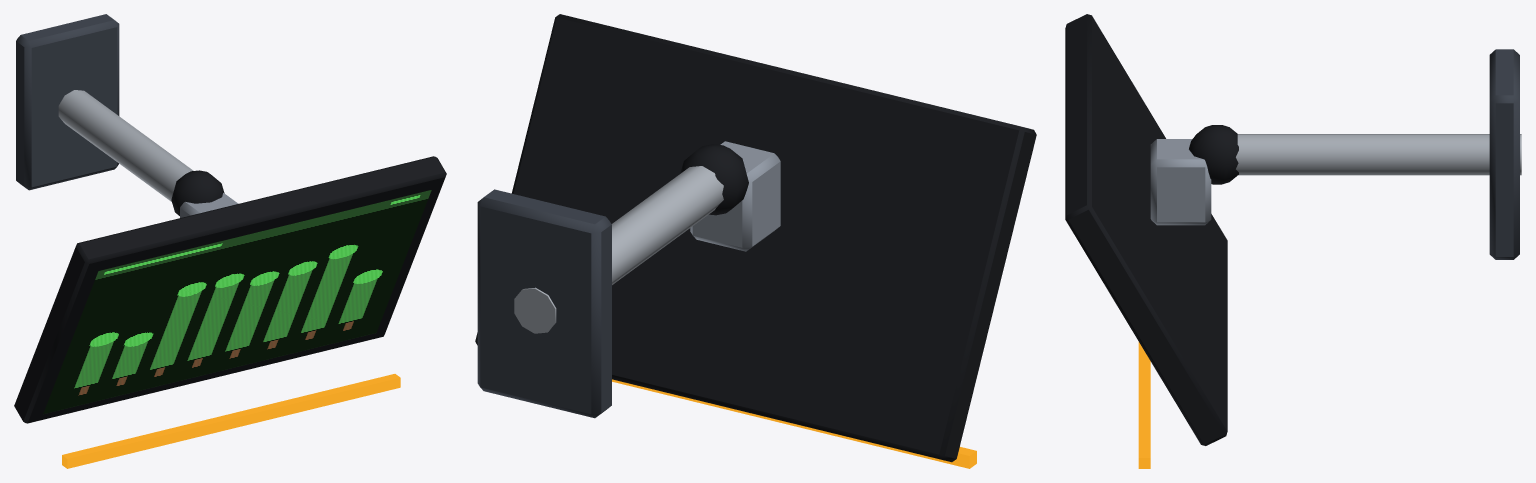
The model's file is display_swing_arm_monitor.glb.
3 views of the same model, side by side, from view 1: azimuth 30°, elevation 25°; view 2: azimuth 150°, elevation 25°; view 3: azimuth 270°, elevation 25° (orthographic). The views are drawn at different scales.
Parts seen in each view (by area): view 1: display_swing_arm_monitor; view 2: display_swing_arm_monitor; view 3: display_swing_arm_monitor.
Boxes of the visible parts, bbox=[...] form: display_swing_arm_monitor: bbox=[14, 14, 446, 468]; display_swing_arm_monitor: bbox=[475, 14, 1036, 468]; display_swing_arm_monitor: bbox=[1065, 14, 1521, 468].
Size of the model in its own units: 0.76 by 0.56 by 0.7543.
Materials: 6 (1 with a texture image).
